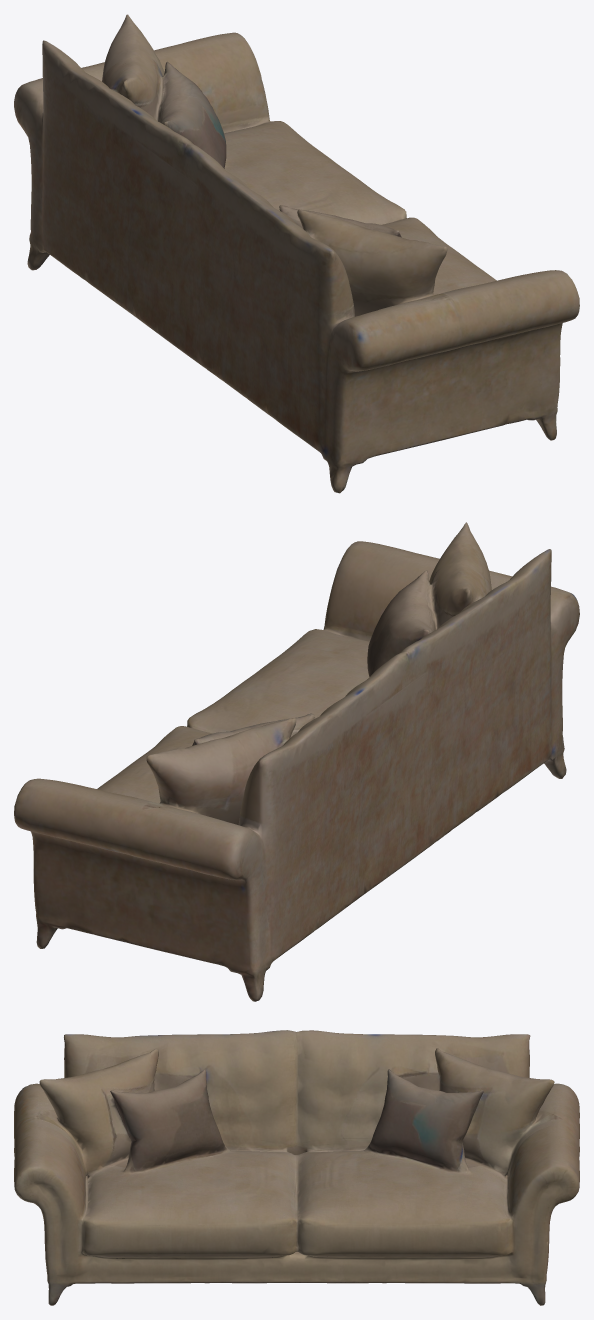
Rendered from meshy_01972193-13db-7b35-981d-ae959c8f1467.glb.
The picture shows the model from 3 angles, top to bottom: view 1: azimuth 30°, elevation 25°; view 2: azimuth 150°, elevation 25°; view 3: azimuth 270°, elevation 25°; orthographic projection. The views are drawn at different scales.
Parts seen in each view (by area): view 1: file1; view 2: file1; view 3: file1.
Boxes of the visible parts, bbox=[...] form: file1: bbox=[14, 14, 579, 493]; file1: bbox=[14, 522, 579, 1001]; file1: bbox=[14, 1030, 579, 1305].
Size of the model in its own units: 0.7679 by 0.7486 by 2.
1 material, 1 textured.
